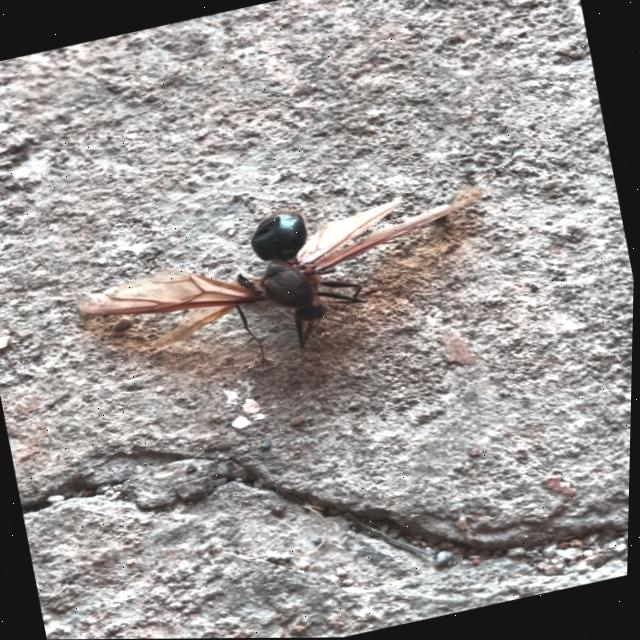Dead-Male-Alate: (66, 167, 510, 402)
